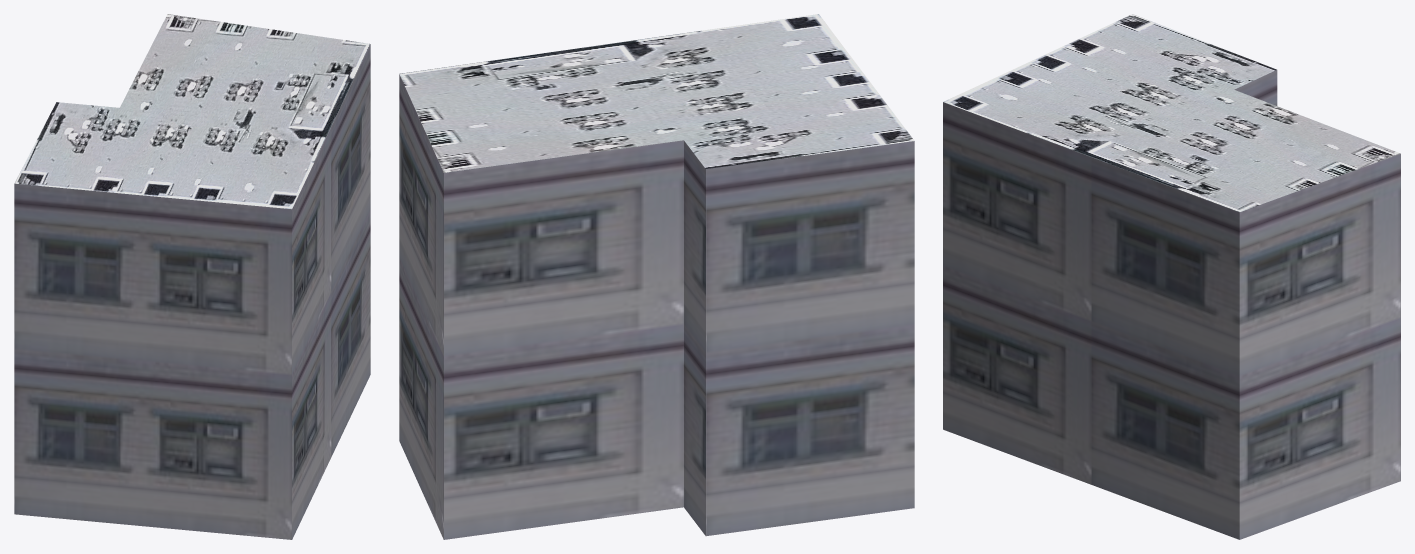
The model's file is ResTex__4089.fbx.
3 views of the same model, side by side, from view 1: azimuth 30°, elevation 25°; view 2: azimuth 150°, elevation 25°; view 3: azimuth 270°, elevation 25° (orthographic). The views are drawn at different scales.
Visible parts, largest first — view 1: CityEngineMaterial_1_m, CityEngineMaterial_m; view 2: CityEngineMaterial_1_m, CityEngineMaterial_m; view 3: CityEngineMaterial_1_m, CityEngineMaterial_m.
Boxes of the visible parts, bbox=[...] form: CityEngineMaterial_1_m: bbox=[14, 44, 370, 539]; CityEngineMaterial_m: bbox=[14, 14, 370, 209]; CityEngineMaterial_1_m: bbox=[399, 74, 914, 539]; CityEngineMaterial_m: bbox=[399, 14, 914, 172]; CityEngineMaterial_1_m: bbox=[943, 70, 1400, 539]; CityEngineMaterial_m: bbox=[943, 14, 1400, 212].
Size of the model in its own units: 7.79 by 6 by 7.6.
Materials: 2 (2 with a texture image).
